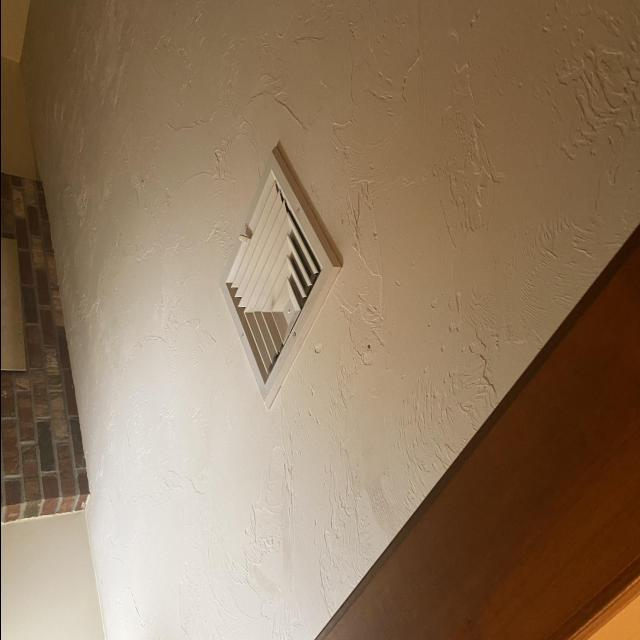Crack: (366, 345, 374, 350)
